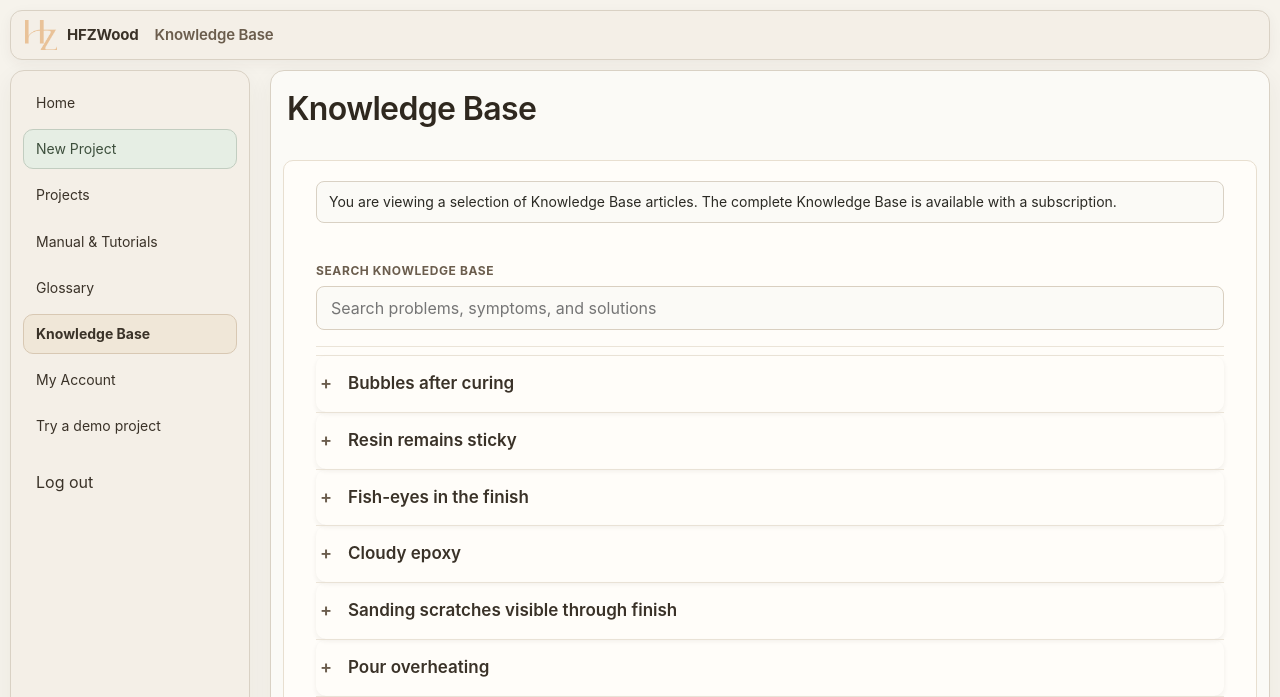
Scenario: KnowledgeBasePage › opens and scrolls to the first matching entry when Enter is pressed in search
The image size is (1280, 697).
Type "cloudy" into the search field labelled "Search knowledge base". click: (770, 308)
box: top-left (316, 286), bottom-right (1224, 330)
Then press Enter
(page scrolled)
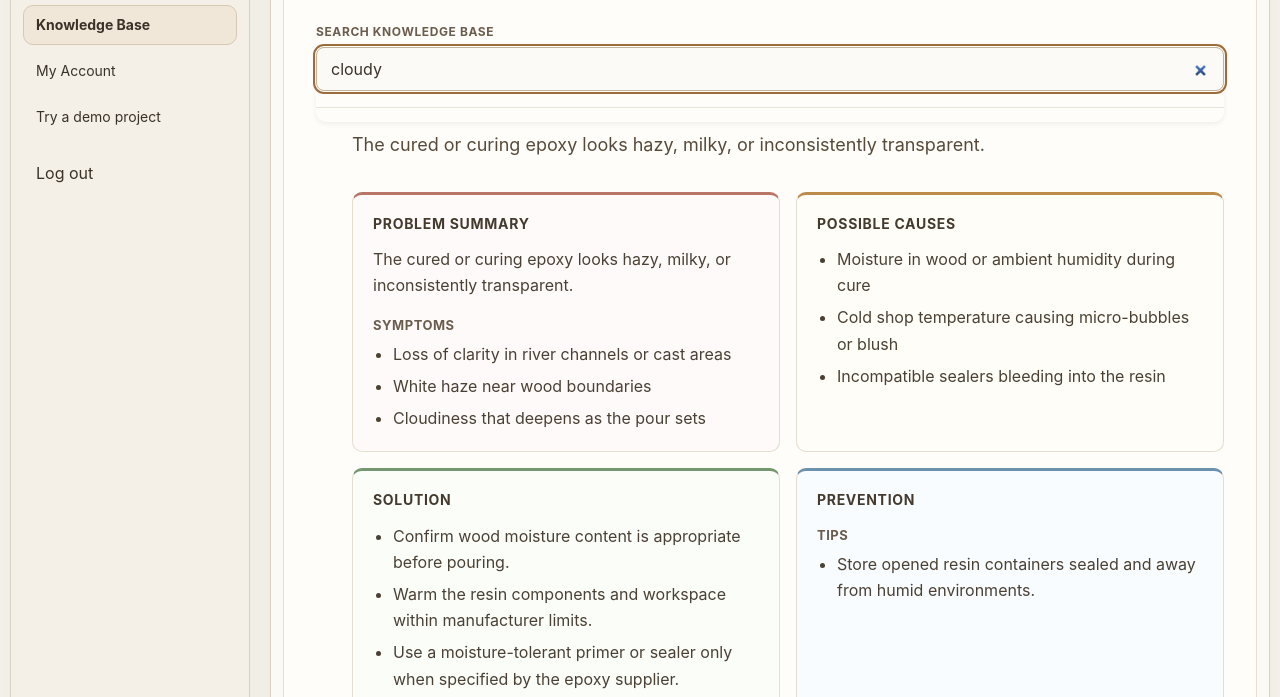
expect the button "− Cloudy epoxy" is expanded: met, box top-left (316, 47), bottom-right (1224, 122)
